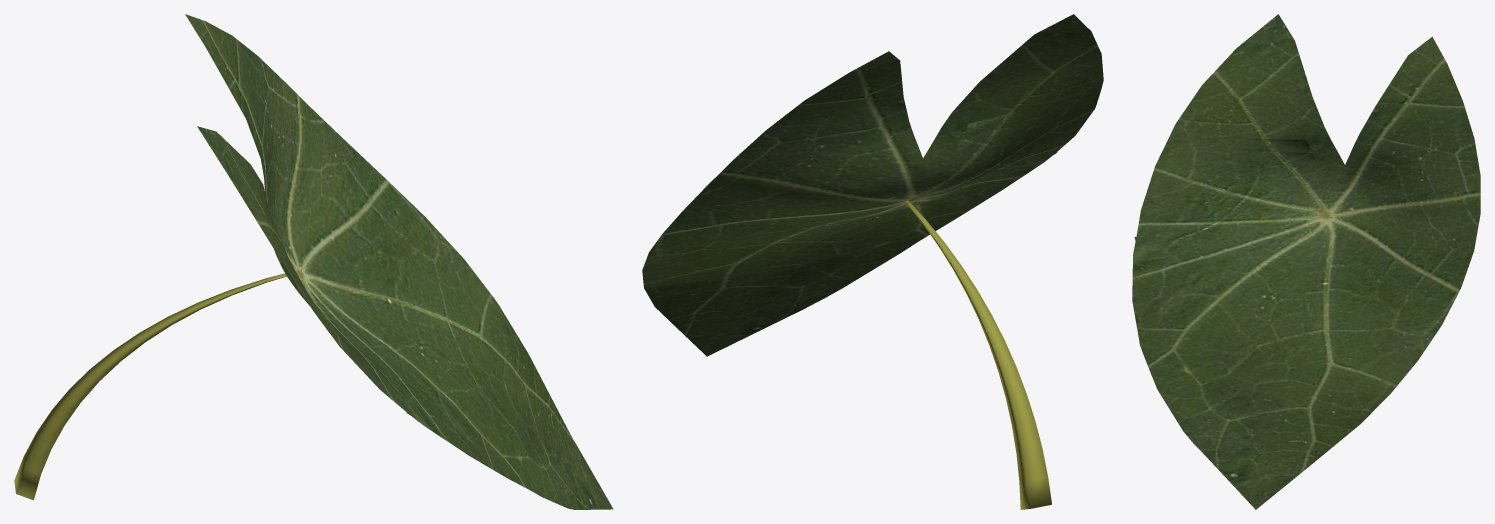
Rendered from Leaf_5.dae.
The picture shows the model from 3 angles, left to right: view 1: azimuth 30°, elevation 25°; view 2: azimuth 150°, elevation 25°; view 3: azimuth 270°, elevation 25°; orthographic projection. The views are drawn at different scales.
Parts seen in each view (by area): view 1: group_2, group_1; view 2: group_2, group_1; view 3: group_2.
Part boxes in pixels (left/top/right/bottom): group_2: left=185, top=14, right=613, bottom=509; group_1: left=14, top=269, right=301, bottom=500; group_2: left=642, top=14, right=1103, bottom=356; group_1: left=904, top=200, right=1051, bottom=509; group_2: left=1132, top=14, right=1480, bottom=509.
Size of the model in its own units: 11 by 9.28 by 10.59.
2 materials, 1 textured.
